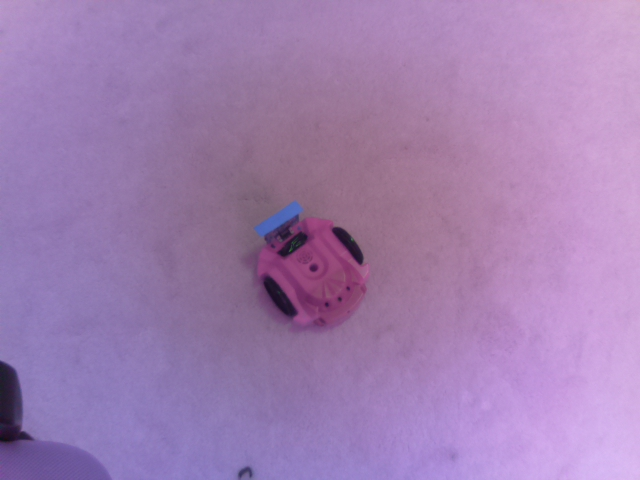board: (256, 201, 302, 239)
chassis: (253, 200, 373, 332)
